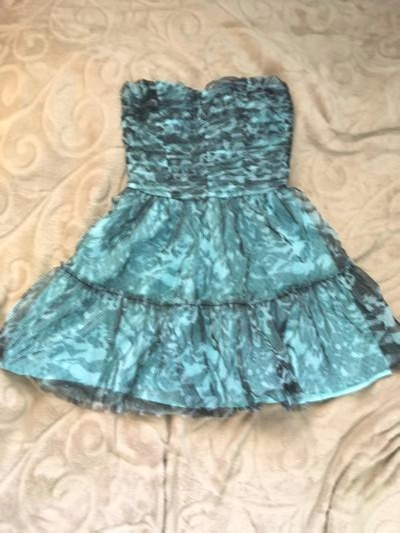Dress: (1, 68, 396, 416)
